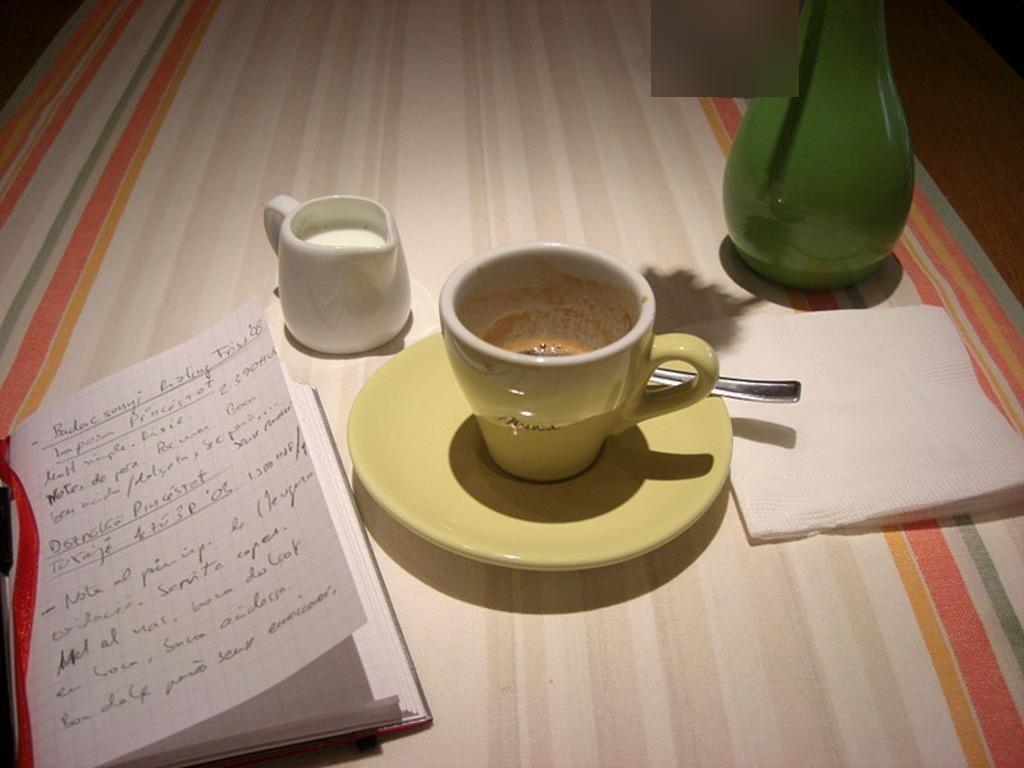cup-handle: (437, 240, 718, 483), (262, 191, 411, 356)
